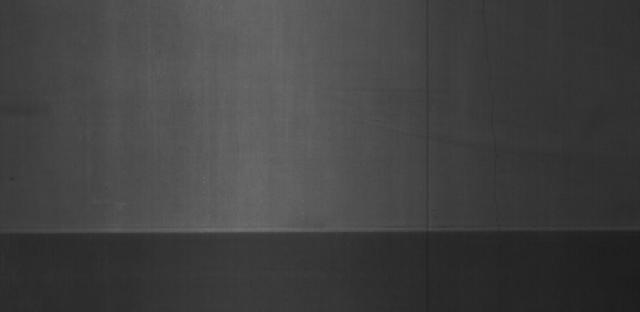welding_line: (0, 218, 635, 242)
